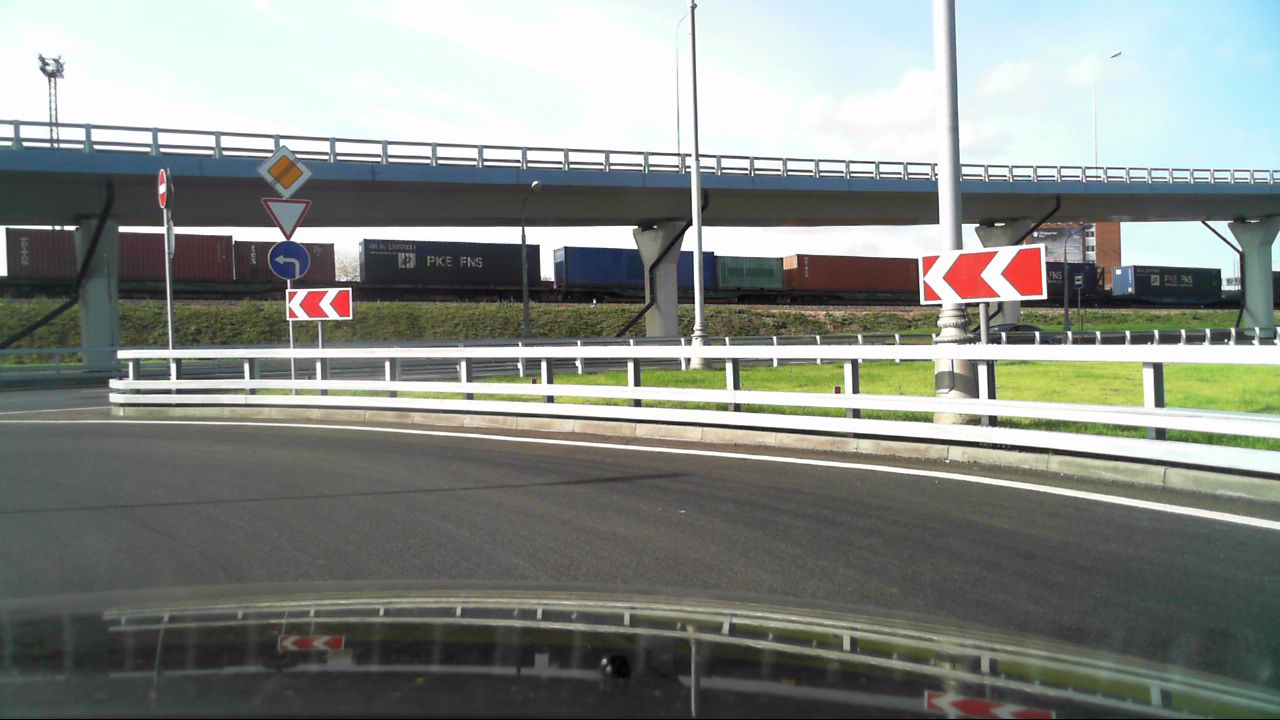main road: (255, 144, 315, 197)
